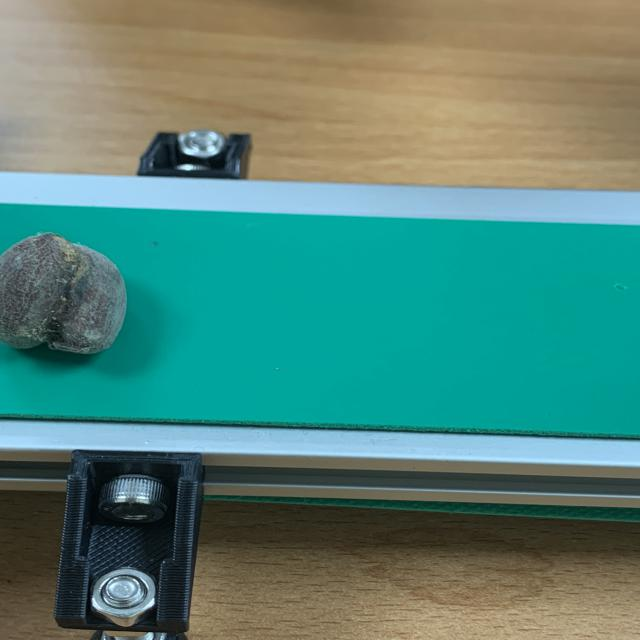Agglomerated_cocoabeans: (0, 217, 217, 393)
